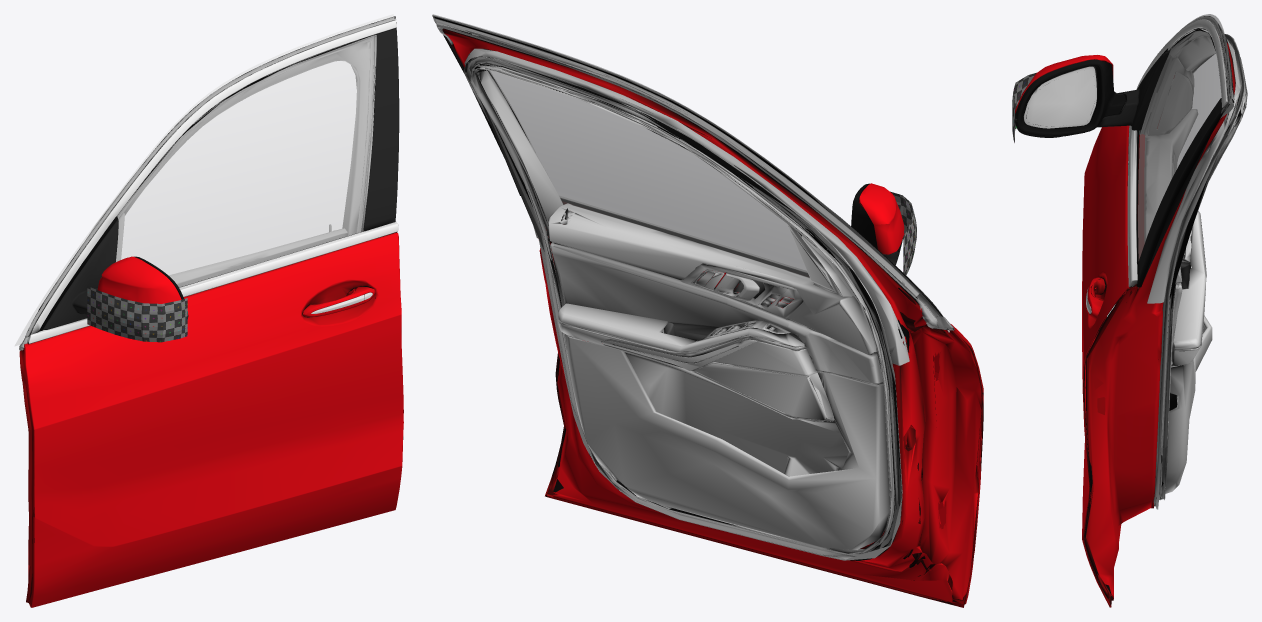
Rendered from O_G05_Doors_F.gltf.
3 renders of one model, left to right at view 1: azimuth 30°, elevation 25°; view 2: azimuth 150°, elevation 25°; view 3: azimuth 270°, elevation 25°, orthographic. The views are drawn at different scales.
Visible parts, largest first — view 1: 002_Door_F_paint, 007_Door_F_glass, 001_Door_F_interior, 004_Door_F_plastic_grained, 005_Door_F_chrome_mat, 012_Indicators_lighteffect, 010_SideMirrors_paint, 003_Door_F_plastic_glossy; view 2: 001_Door_F_interior, 002_Door_F_paint, 007_Door_F_glass, 010_SideMirrors_paint, 012_Indicators_lighteffect, 009_SideMirrors_plastic_matte, 003_Door_F_plastic_glossy; view 3: 002_Door_F_paint, 001_Door_F_interior, 007_Door_F_glass, 004_Door_F_plastic_grained, 011_SideMirrors_chrome, 009_SideMirrors_plastic_matte, 005_Door_F_chrome_mat, 010_SideMirrors_paint, 003_Door_F_plastic_glossy, 012_Indicators_lighteffect.
Boxes of the visible parts, <box> form: 002_Door_F_paint: <box>19,232,403,607</box>; 007_Door_F_glass: <box>15,14,393,345</box>; 001_Door_F_interior: <box>19,16,395,350</box>; 004_Door_F_plastic_grained: <box>43,28,399,329</box>; 005_Door_F_chrome_mat: <box>28,20,398,343</box>; 012_Indicators_lighteffect: <box>87,286,187,342</box>; 010_SideMirrors_paint: <box>97,256,181,303</box>; 003_Door_F_plastic_glossy: <box>25,16,396,344</box>; 001_Door_F_interior: <box>432,15,954,560</box>; 002_Door_F_paint: <box>442,28,983,607</box>; 007_Door_F_glass: <box>432,14,952,330</box>; 010_SideMirrors_paint: <box>859,183,904,254</box>; 012_Indicators_lighteffect: <box>890,191,916,274</box>; 009_SideMirrors_plastic_matte: <box>851,183,902,251</box>; 003_Door_F_plastic_glossy: <box>561,198,945,332</box>; 002_Door_F_paint: <box>1082,40,1235,607</box>; 001_Door_F_interior: <box>1132,16,1247,509</box>; 007_Door_F_glass: <box>1138,14,1232,287</box>; 004_Door_F_plastic_grained: <box>1097,50,1222,287</box>; 011_SideMirrors_chrome: <box>1023,66,1097,128</box>; 009_SideMirrors_plastic_matte: <box>1015,59,1125,137</box>; 005_Door_F_chrome_mat: <box>1127,19,1227,287</box>; 010_SideMirrors_paint: <box>1015,55,1113,113</box>; 003_Door_F_plastic_glossy: <box>1100,16,1230,294</box>; 012_Indicators_lighteffect: <box>1012,72,1036,142</box>.
Size of the model in its own units: 129 by 132 by 51.22.
9 materials, 1 textured.
